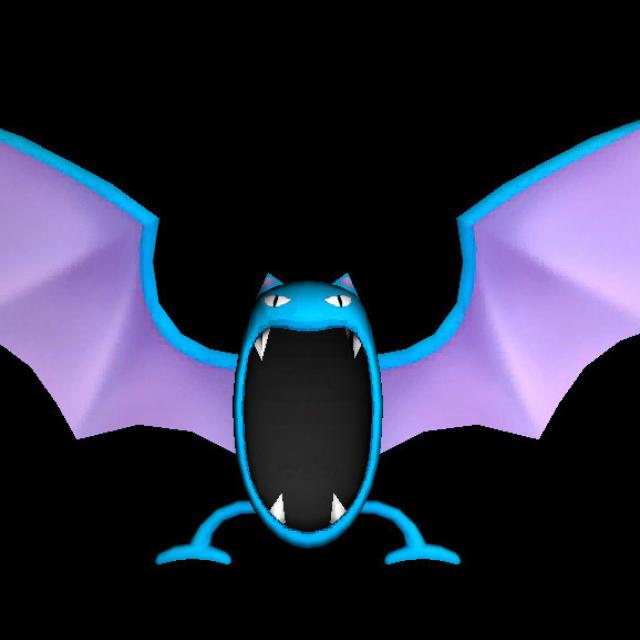Golbat: (107, 242, 511, 588)
